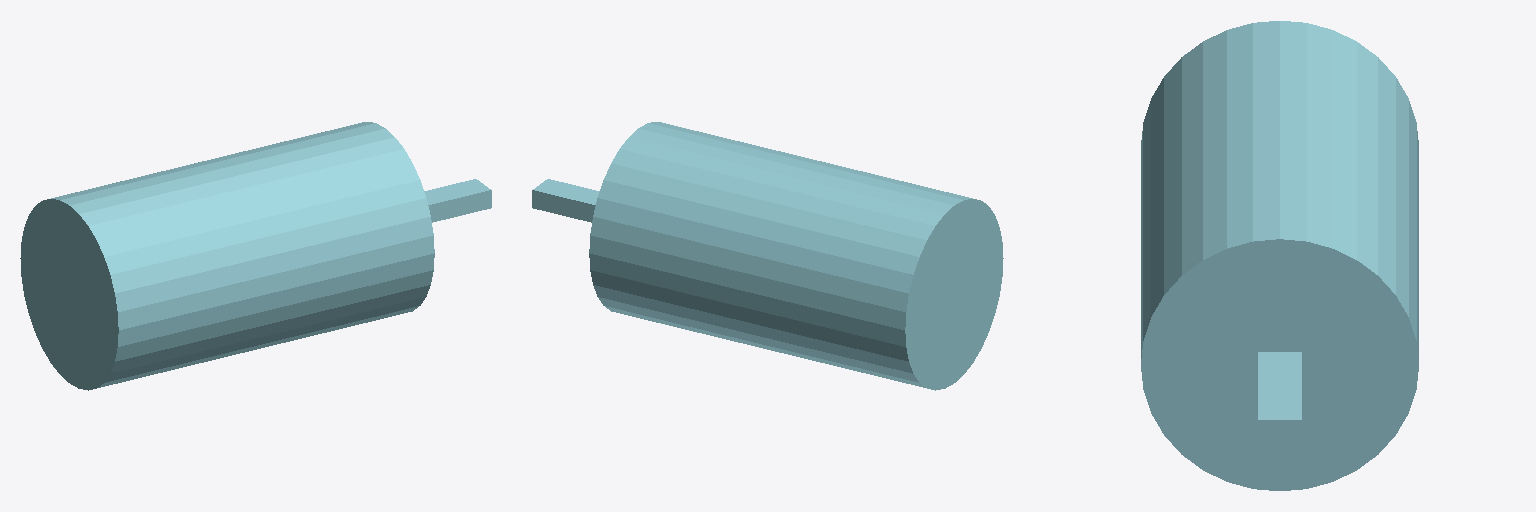
The robot description file, URDF, robot "cylinder_marker_v4014":
<?xml version="1.0"?>
<robot name="cylinder_marker_v4014">

  <link name="cylinder_marker_v4014">
    <!-- Handle -->
    <visual>
      <origin xyz="0 0 0" rpy="0 1.5707963267948966 0"/>
      <geometry>
        <cylinder length="0.09530690634883501" radius="0.025648570459219557"/>
      </geometry>
      <material name="material">
        <color rgba="0.639 0.847 0.882 1.0"/>
      </material>
    </visual>
    <collision>
      <origin xyz="0 0 0" rpy="0 1.5707963267948966 0"/>
      <geometry>
        <cylinder length="0.09530690634883501" radius="0.025648570459219557"/>
      </geometry>
    </collision>

    <!-- Head -->
    <visual>
      <origin xyz="0.062455501023404324 0 0" rpy="0 0 0"/>
      <geometry>
        <box size="0.029604095697973634 0.008057718029885348 0.005272501574956478"/>
      </geometry>
      <material name="material">
        <color rgba="0.639 0.847 0.882 1.0"/>
      </material>
    </visual>
    <collision>
      <origin xyz="0.062455501023404324 0 0" rpy="0 0 0"/>
      <geometry>
        <box size="0.029604095697973634 0.008057718029885348 0.005272501574956478"/>
      </geometry>
    </collision>

    <inertial>
      <density value="400.0"/>
    </inertial>
  </link>

</robot>

--- Facts derived from the render (not from the file) ---
Views: 3 orthographic renders of the robot side by side, from view 1: azimuth 30°, elevation 25°; view 2: azimuth 150°, elevation 25°; view 3: azimuth 270°, elevation 25°.
Robot: cylinder_marker_v4014 — 1 links, 0 joints (none); root link cylinder_marker_v4014; default pose: all joints at 0.
Visible links, largest first — view 1: cylinder_marker_v4014; view 2: cylinder_marker_v4014; view 3: cylinder_marker_v4014.
Boxes of the visible links, left/top/right/bottom form: cylinder_marker_v4014: left=20, top=122, right=491, bottom=390; cylinder_marker_v4014: left=532, top=122, right=1003, bottom=390; cylinder_marker_v4014: left=1141, top=21, right=1418, bottom=490.
Size in the robot's own frame: 0.1249 by 0.0513 by 0.0513 metres.
Geometry: primitives only (box / cylinder / sphere), no mesh files.
